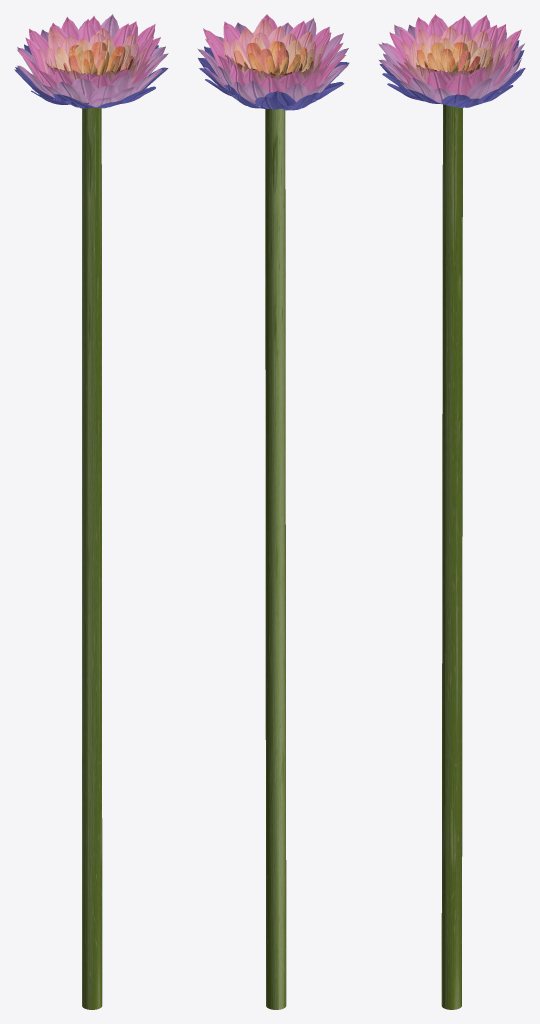
The model's file is flor_07.fbx.
3 renders of one model, left to right at view 1: azimuth 30°, elevation 25°; view 2: azimuth 150°, elevation 25°; view 3: azimuth 270°, elevation 25°, orthographic.
Visible parts, largest first — view 1: Plane.068; view 2: Plane.068; view 3: Plane.068.
Part boxes in pixels (box(x1,y1,x2,y2)): Plane.068: box(14, 14, 168, 1009); Plane.068: box(197, 14, 349, 1009); Plane.068: box(378, 14, 525, 1009).
Size of the model in its own units: 87.23 by 599 by 83.1.
2 materials, 2 textured.
